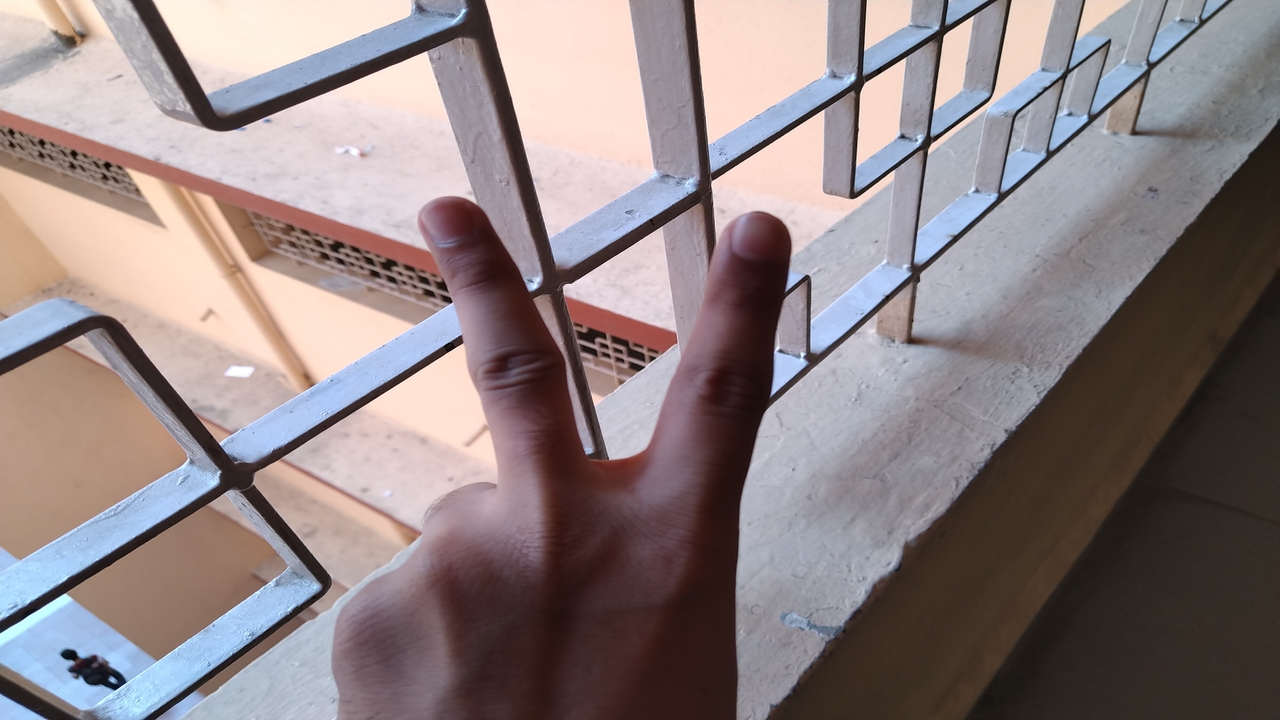fingertip: (720, 206, 792, 278), (422, 192, 480, 256)
